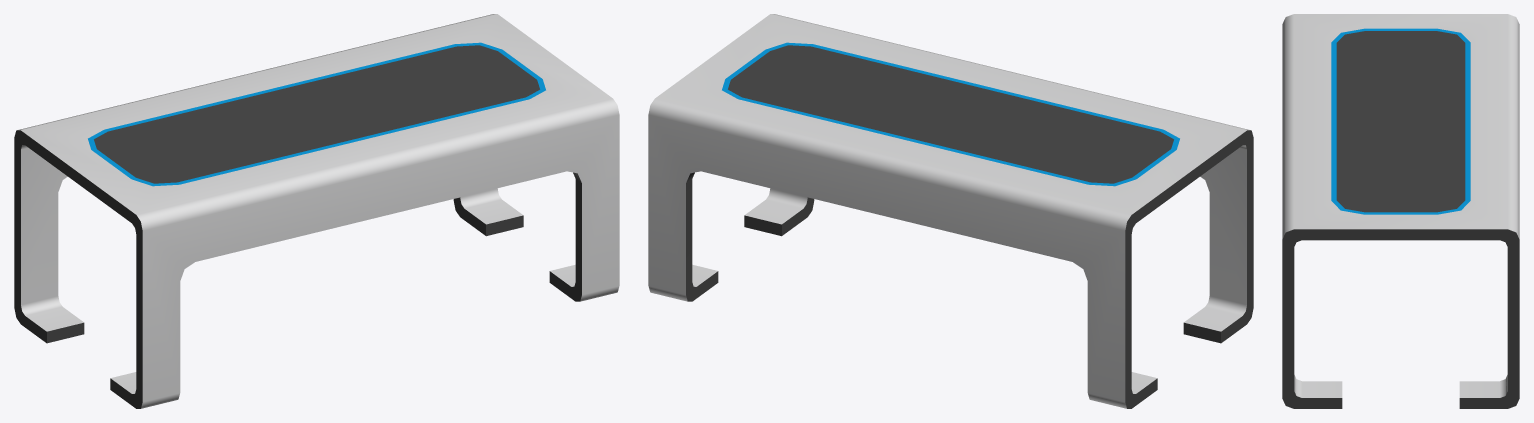
Rendered from Desk_035.fbx.
3 renders of one model, left to right at view 1: azimuth 30°, elevation 25°; view 2: azimuth 150°, elevation 25°; view 3: azimuth 270°, elevation 25°, orthographic. The views are drawn at different scales.
Parts seen in each view (by area): view 1: Desk_035; view 2: Desk_035; view 3: Desk_035.
Part boxes in pixels (x1,y1,x2,y2): Desk_035: (14,14,619,408); Desk_035: (648,14,1253,408); Desk_035: (1282,14,1519,408).
Bounding box in the file's own units: 224 × 104 × 87.13.
